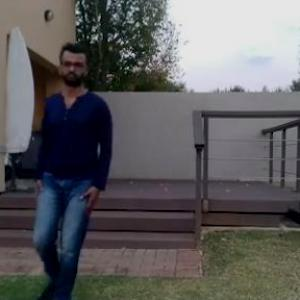follow: (28, 36, 123, 299)
